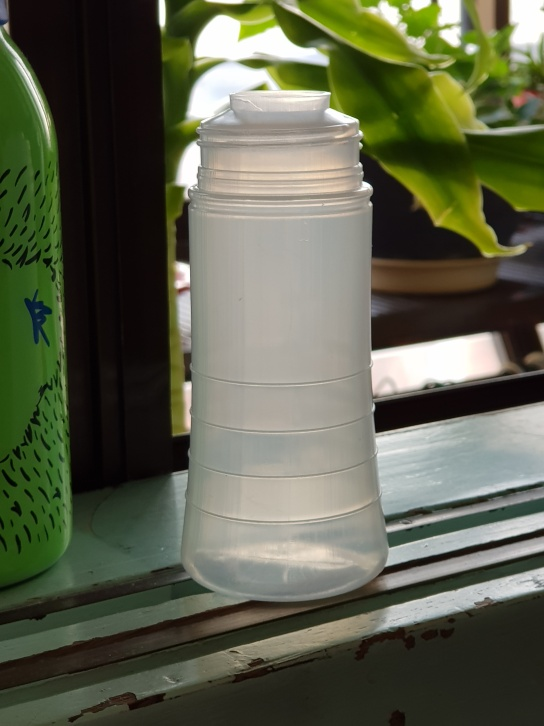Plastic: (178, 86, 391, 601)
